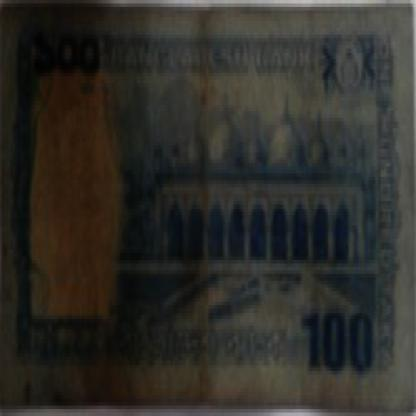one hundred taka: (301, 298, 376, 378), (29, 21, 112, 83)
